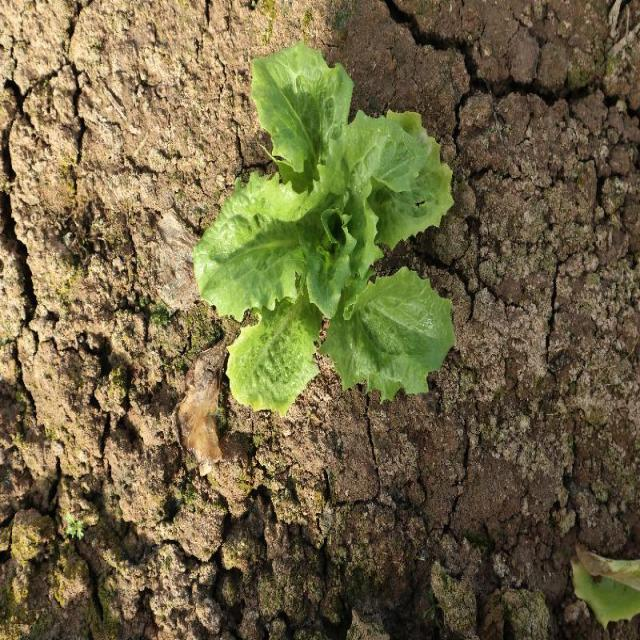crop: (195, 43, 458, 420)
